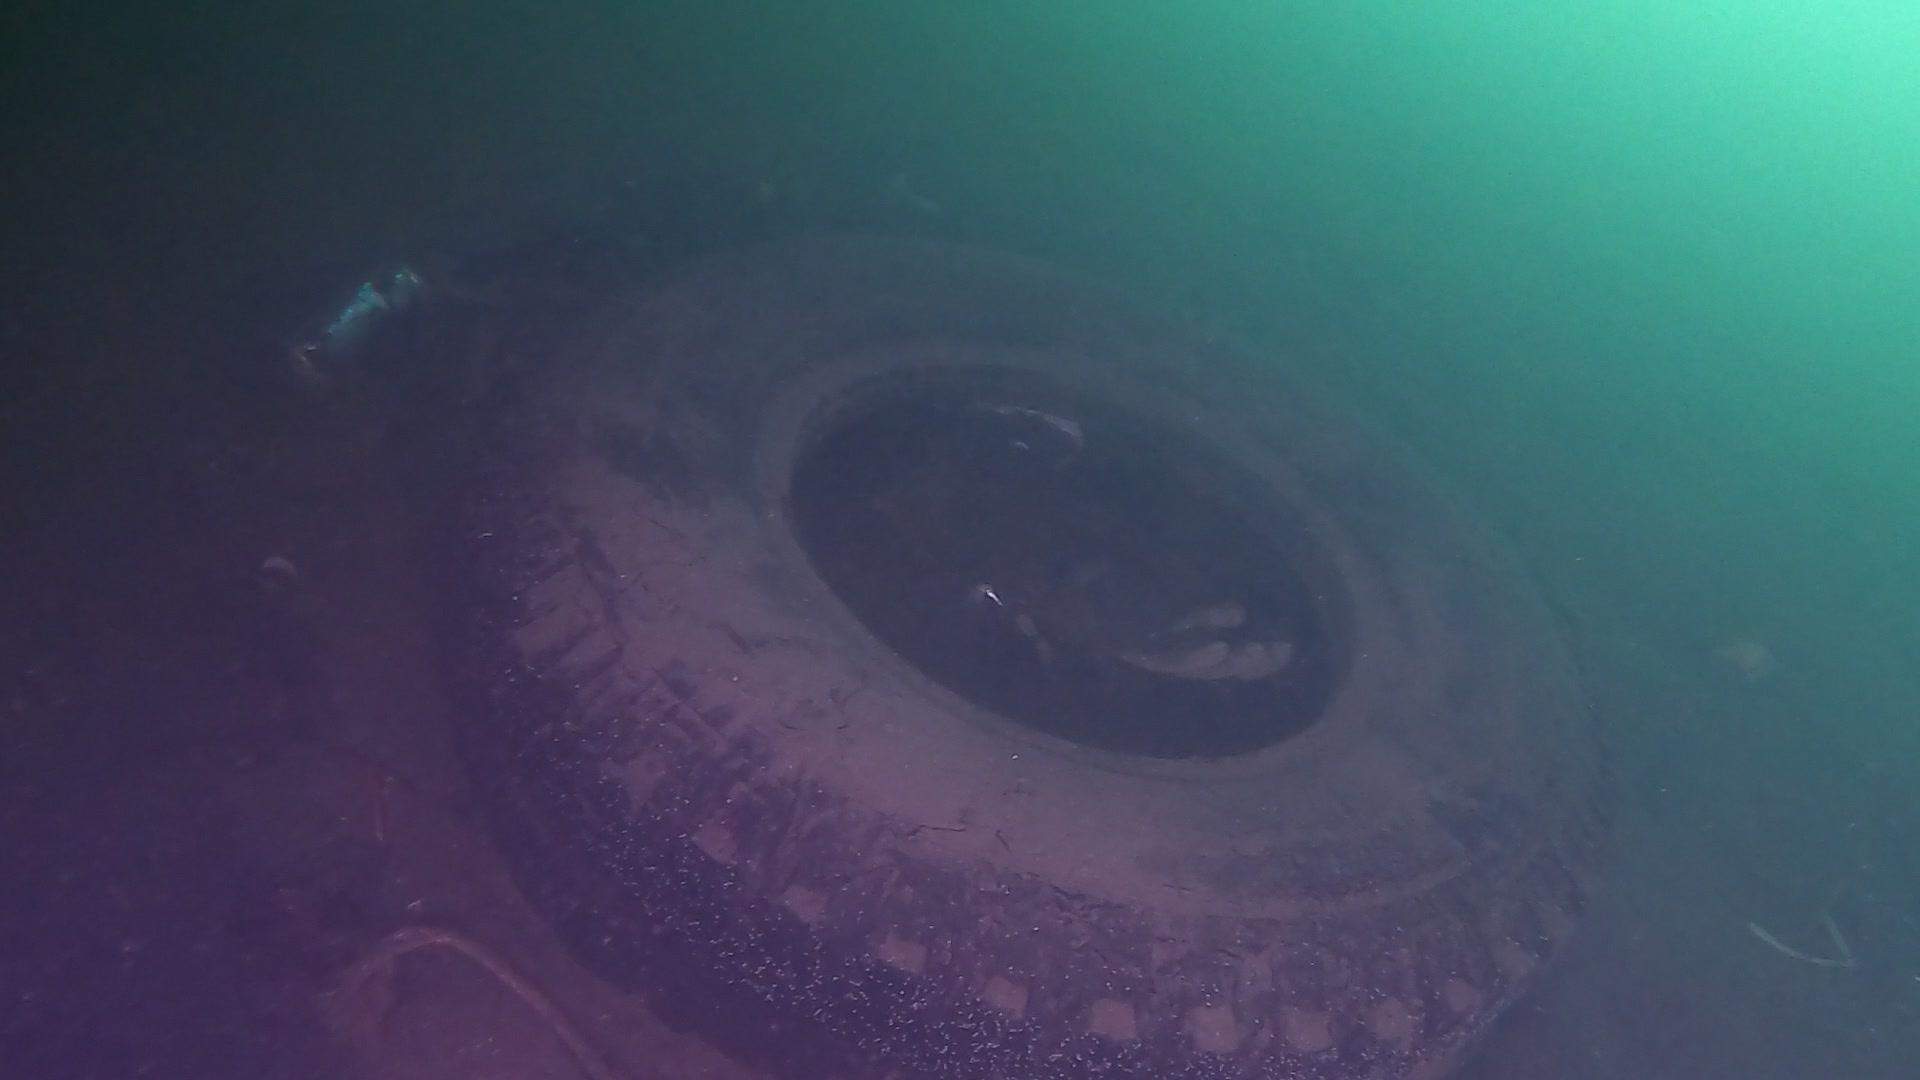tire: (444, 227, 1630, 1080)
